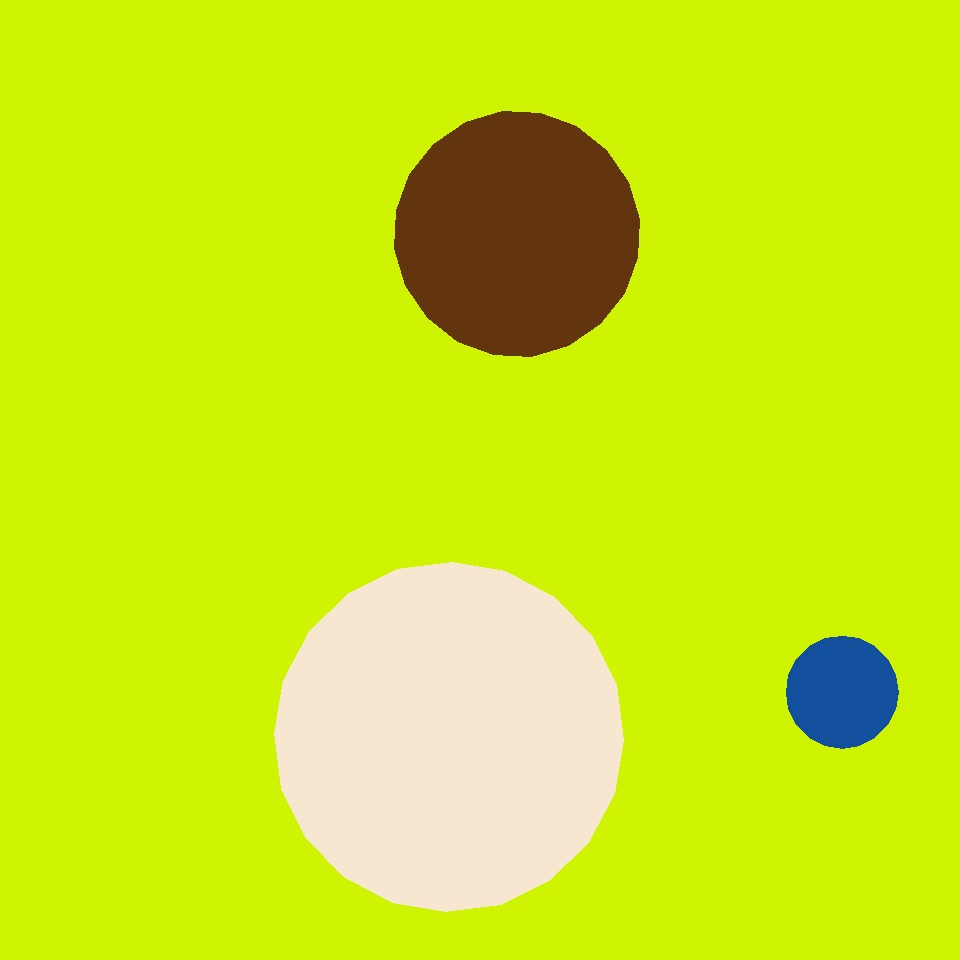square: (201, 256, 533, 588)
triangle: (274, 562, 624, 912), (395, 112, 640, 356), (516, 203, 706, 393), (786, 636, 898, 748)
